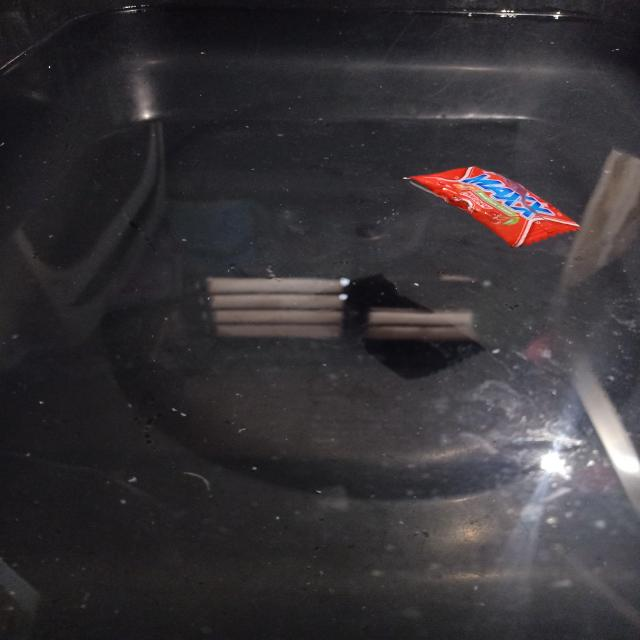Plastic Wrapper: (404, 166, 580, 247)
